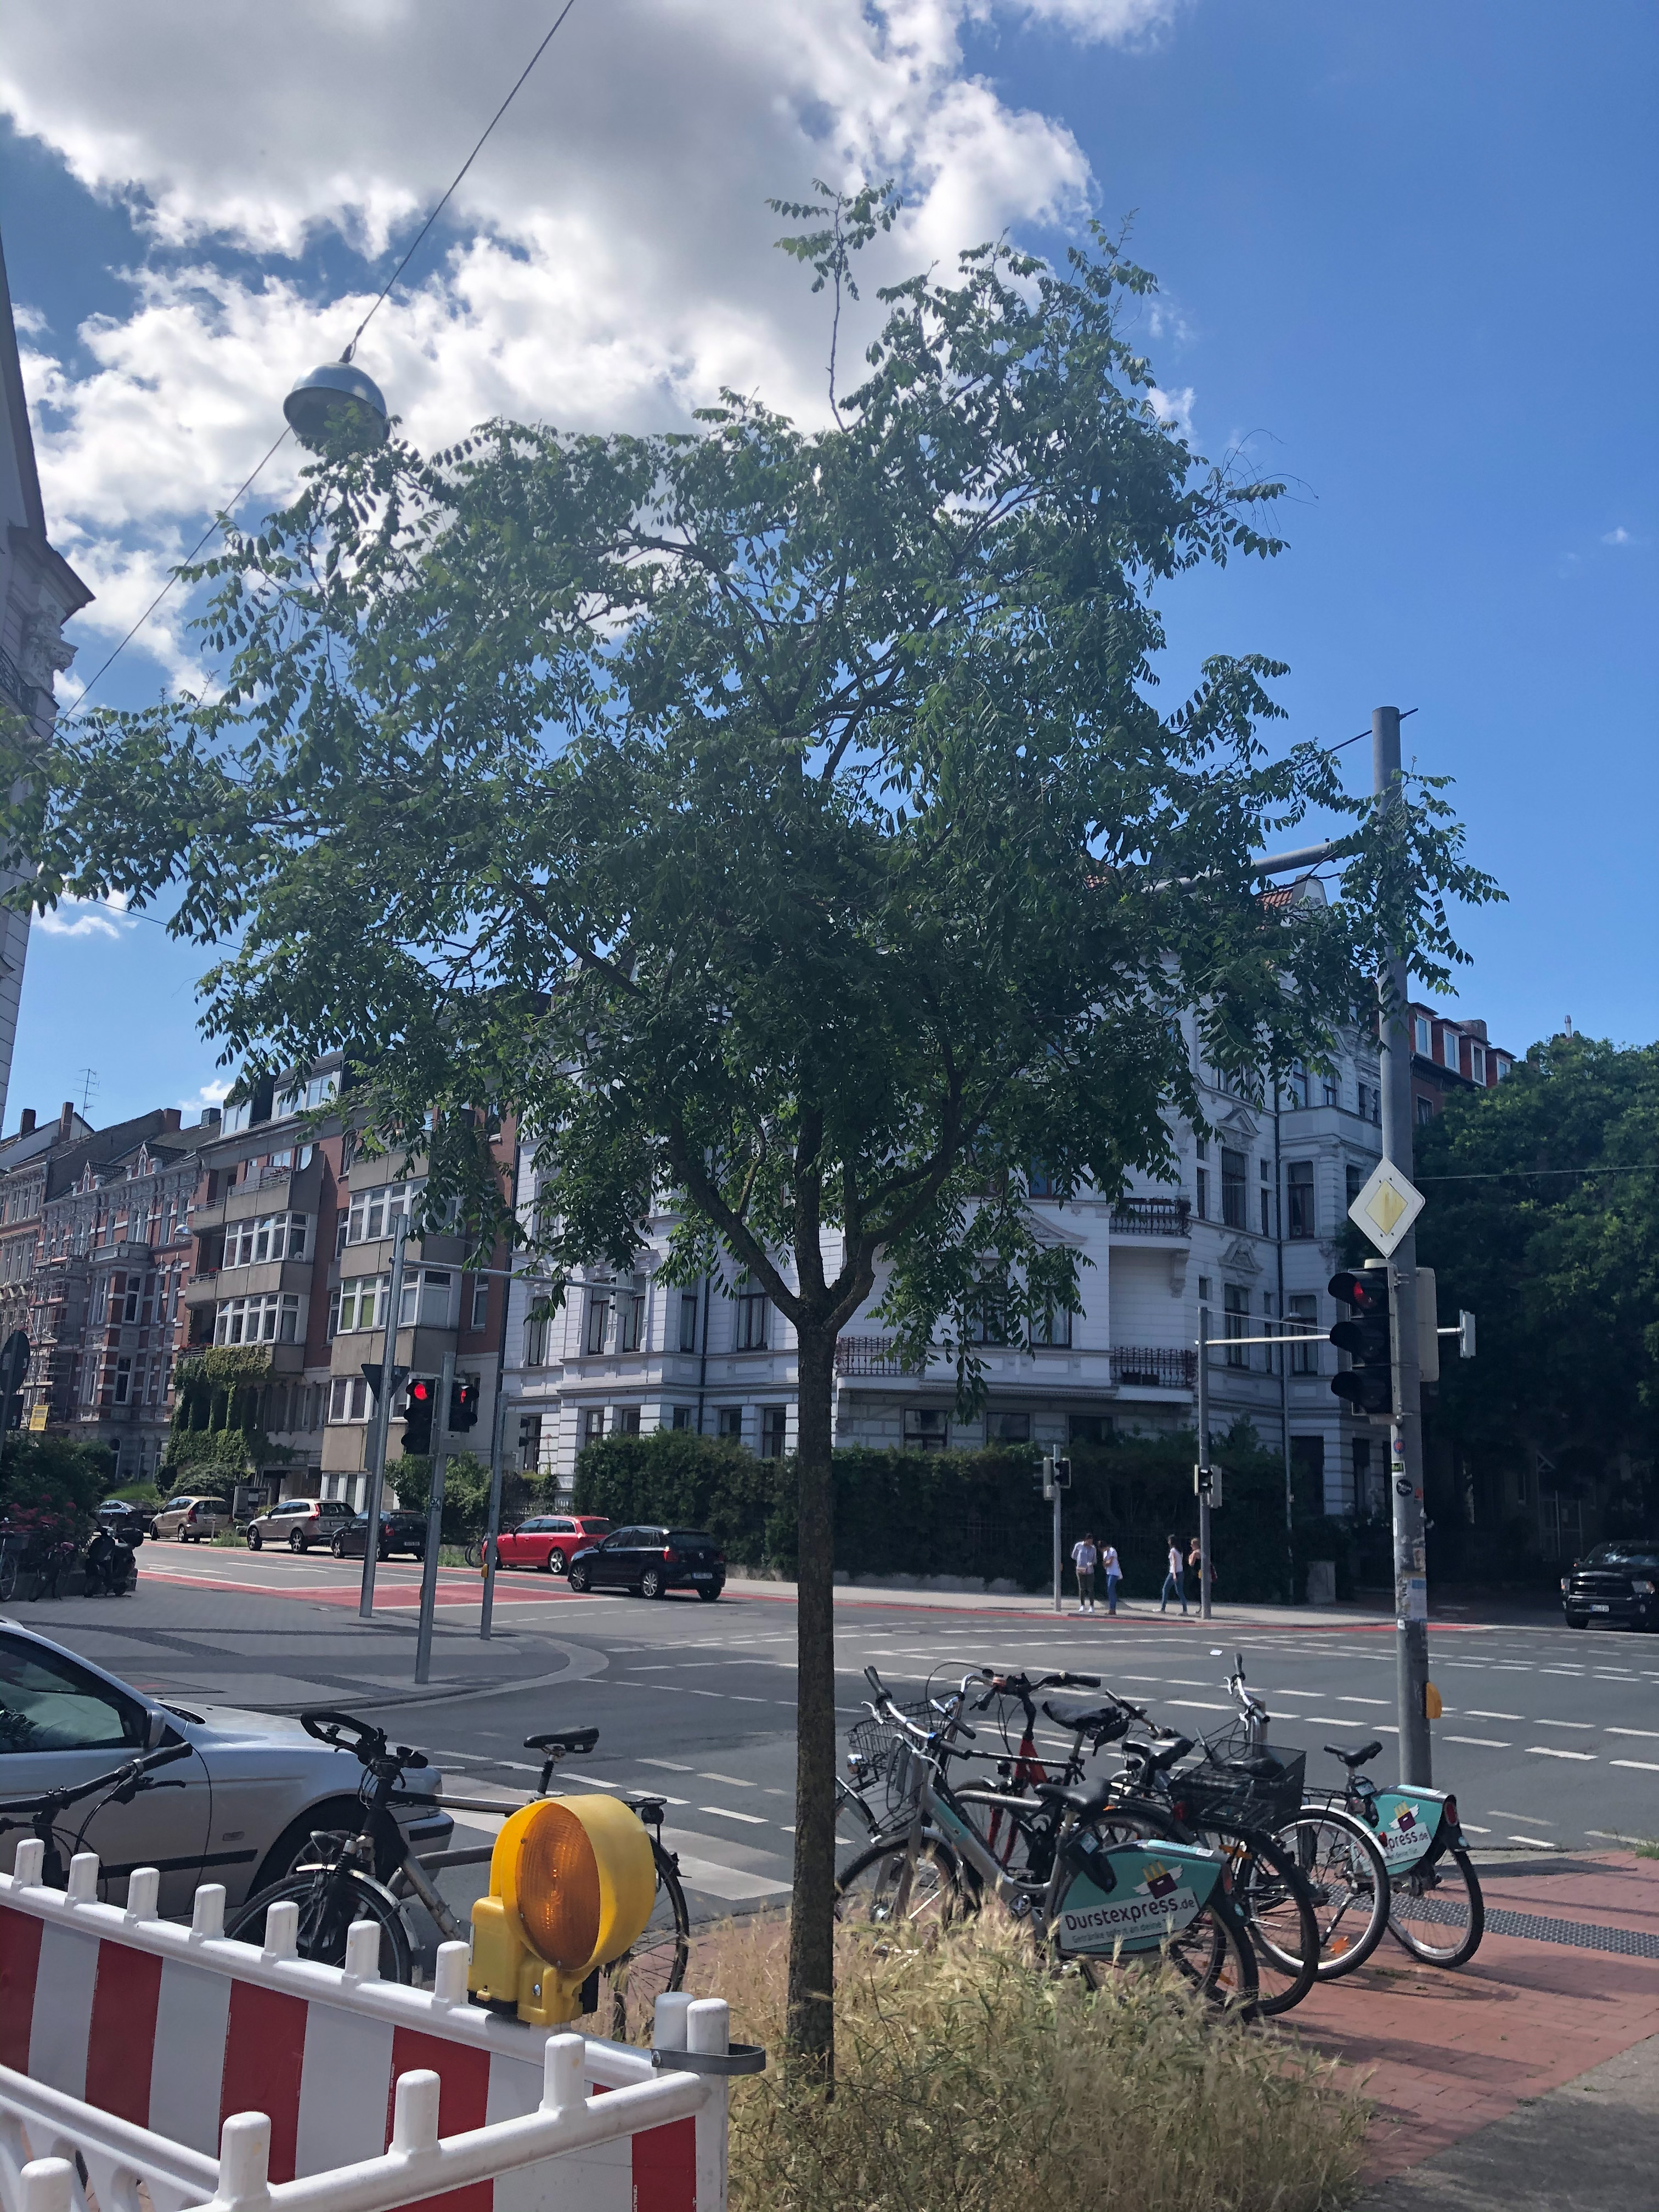tree: (3, 169, 1514, 2121), (1328, 1031, 1659, 1559)
